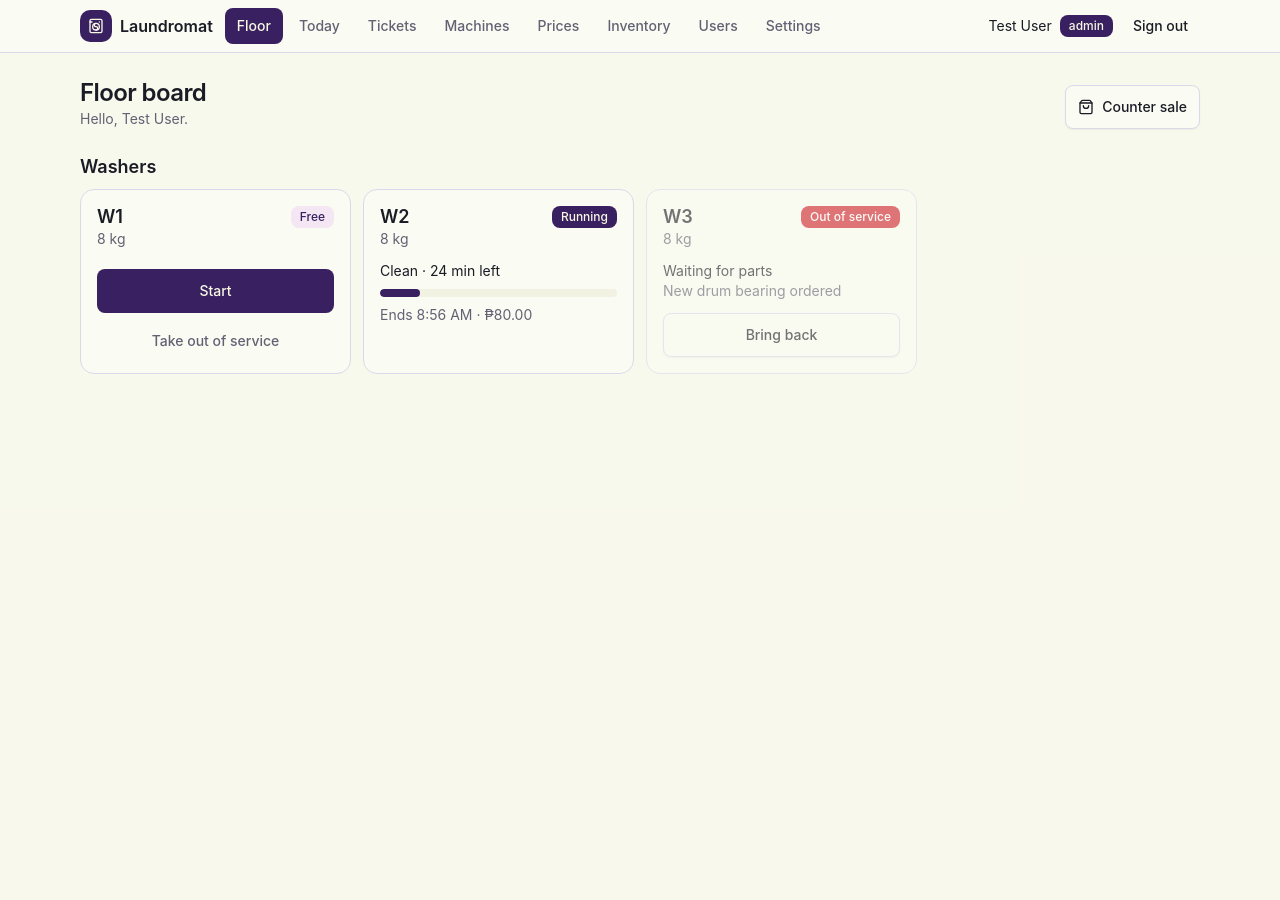
it: Taking machines out of service › needs a description when the reason is Other
Click the button with aria-label "Take W1 out of service". click: click(216, 340)
box: 97,324 -> 334,356
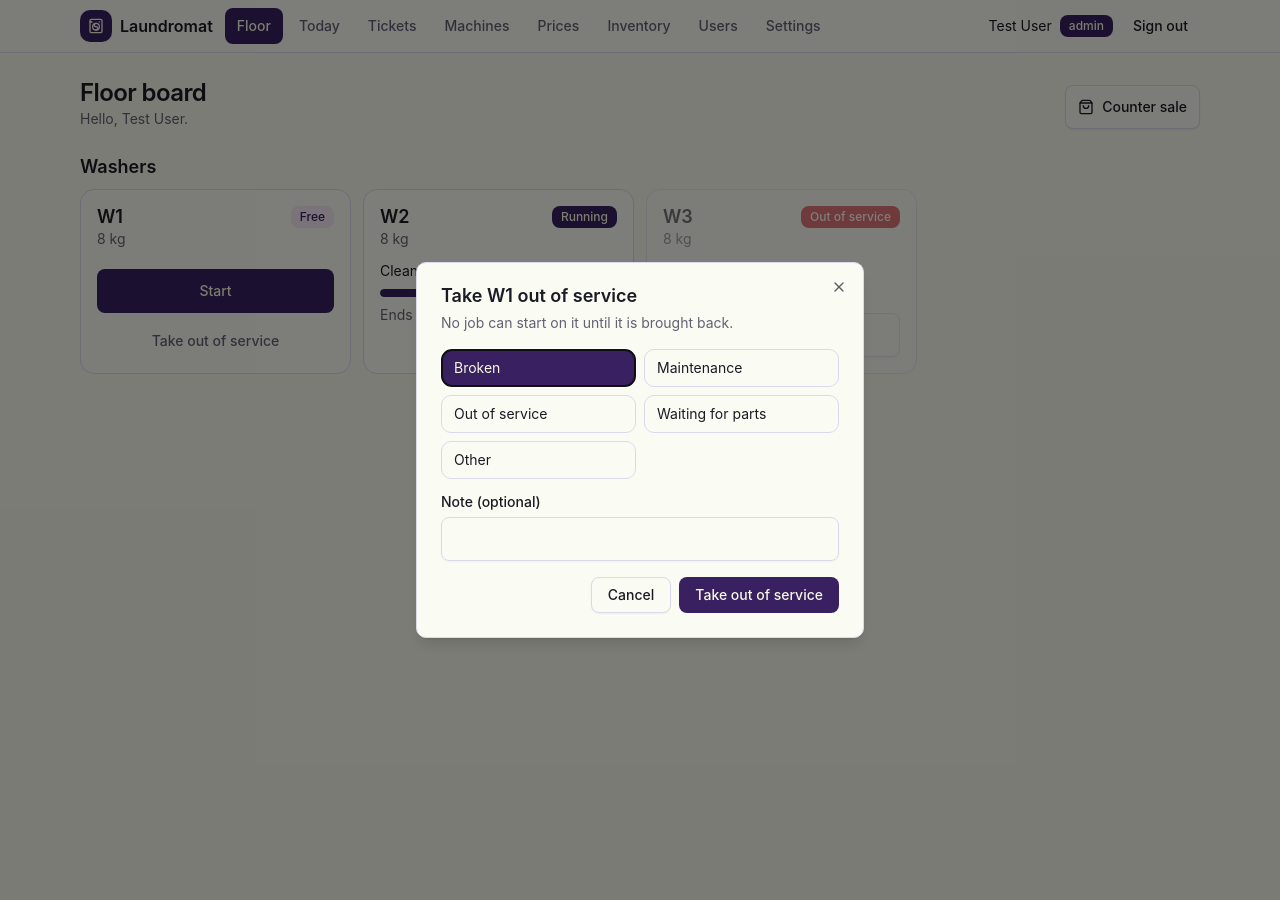
Click the radio button labelled "Other". click: click(538, 460)
box: 441,441 -> 636,479
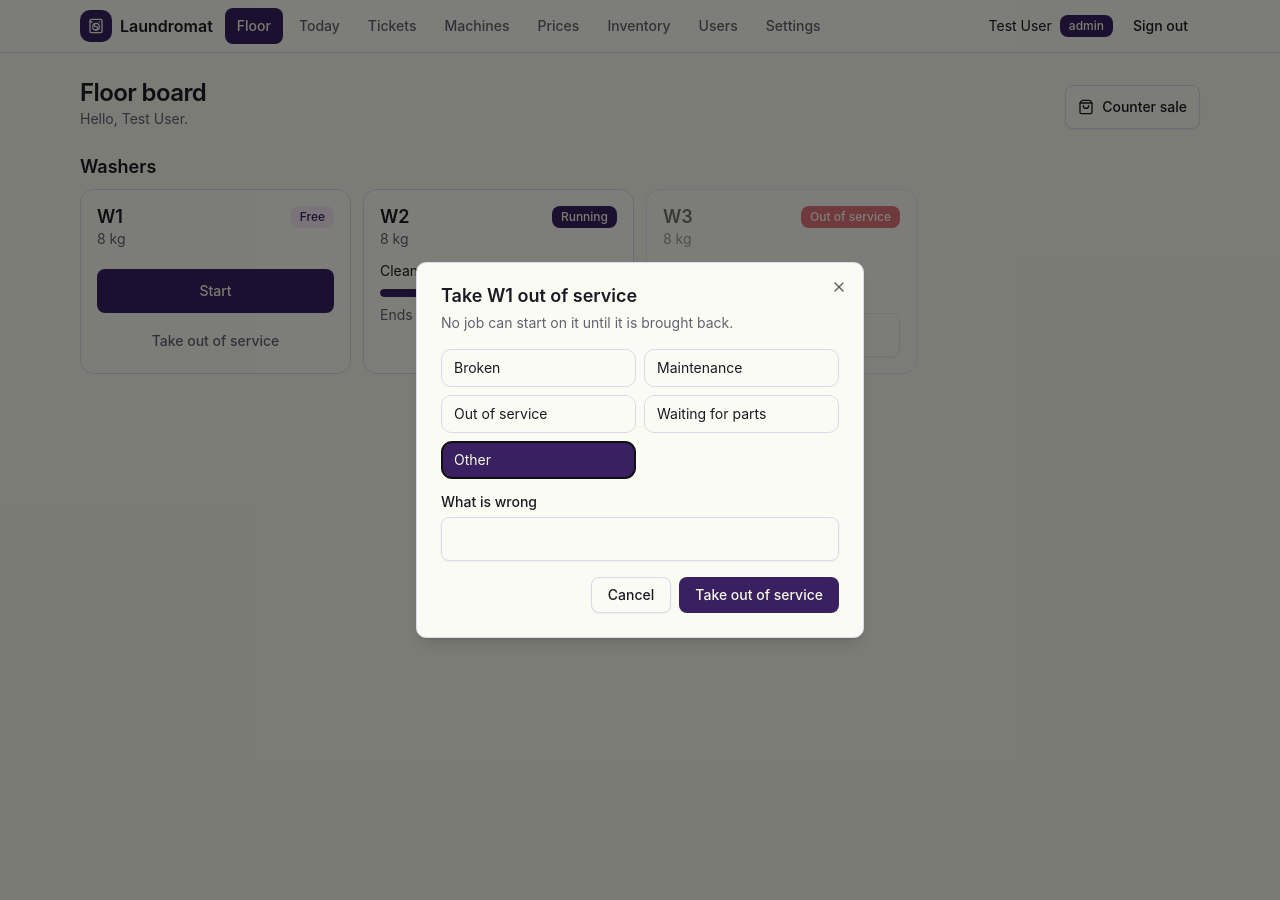
Click the button "Take out of service". click: click(759, 595)
box: 679,577 -> 839,613
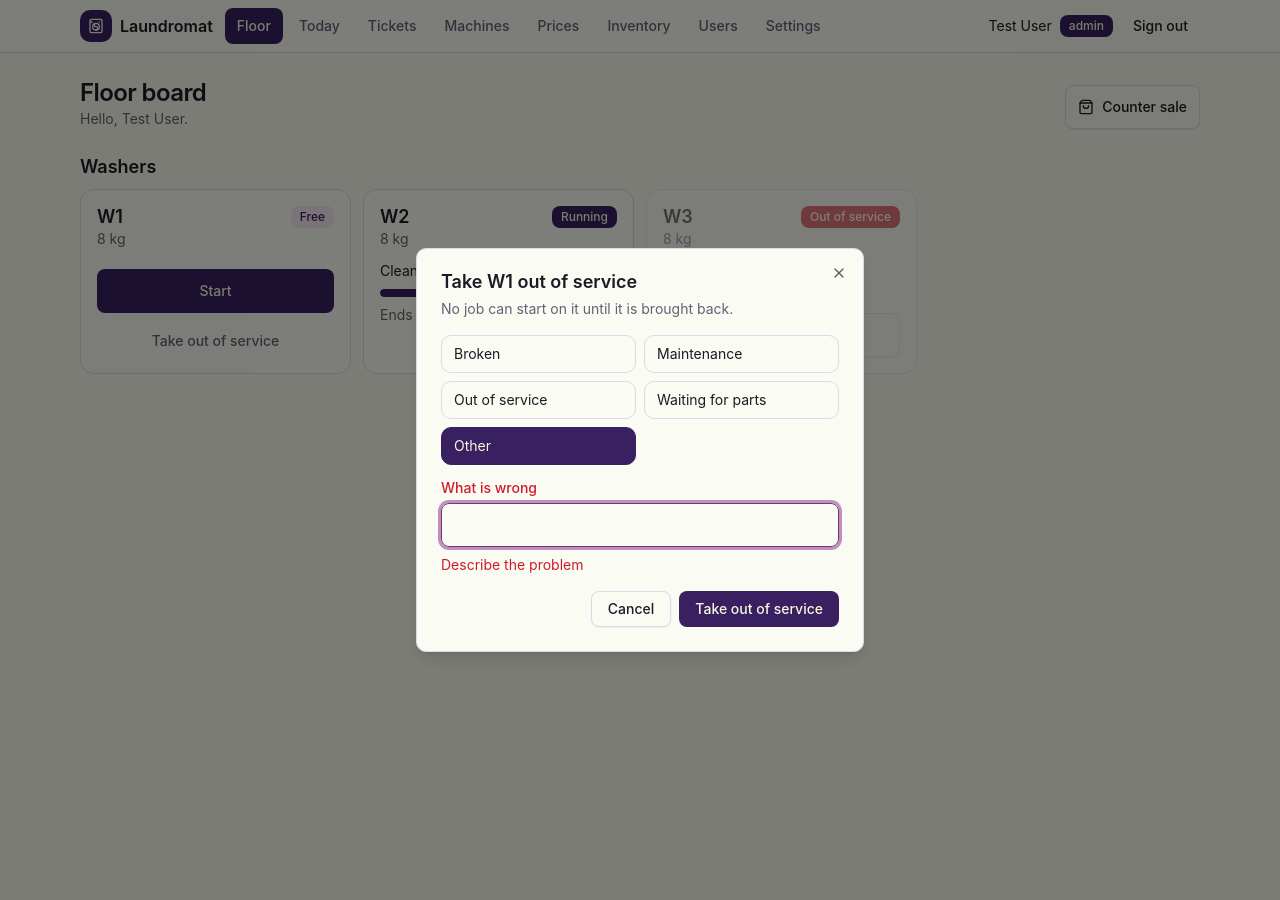
Expected: the text "Describe the problem" is shown, 441,556 -> 584,573
